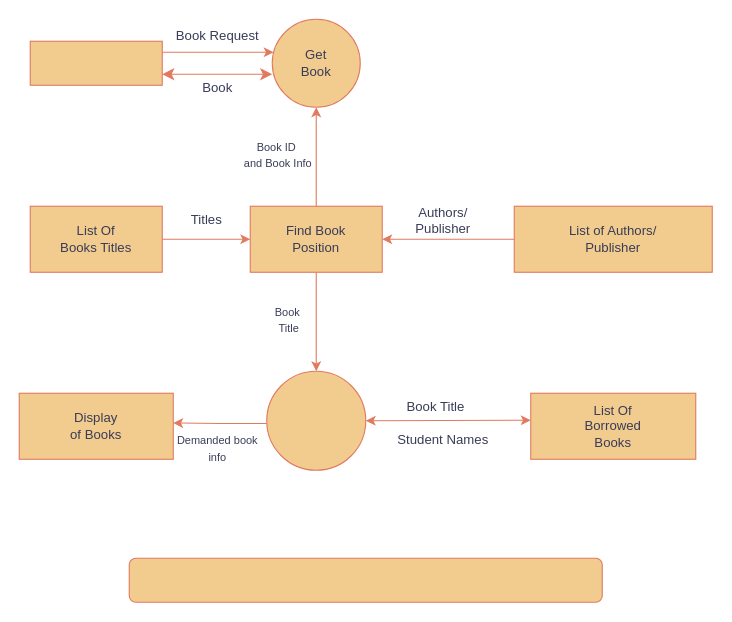
Image size: 732x622. Some labels were removed from this diagram. The centre of each missing label's shape, as x and y in pixels:
"2 LEVEL DFD - LIBRARY MANAGEMENT SYSTEM" belongs at point 365,579.
"Student" belongs at point 95,62.
"Updated List of borrowed books" belongs at point 316,420.
